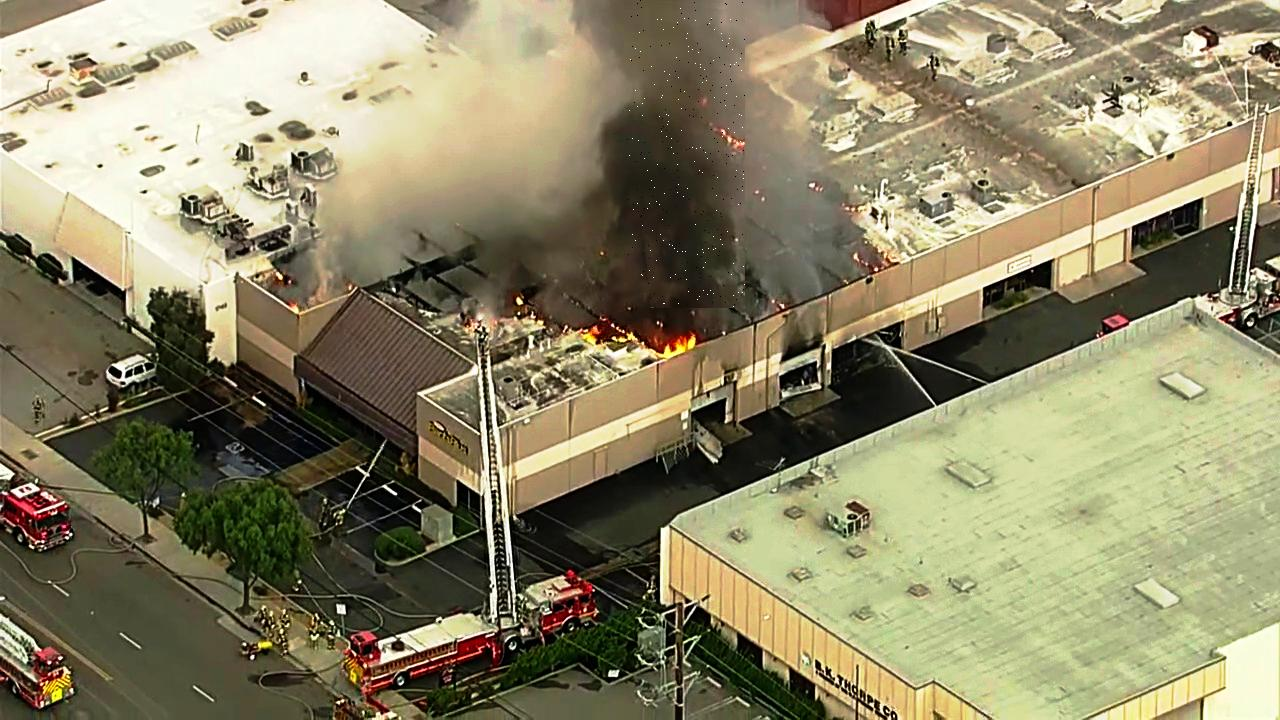smoke: (627, 0, 745, 308)
